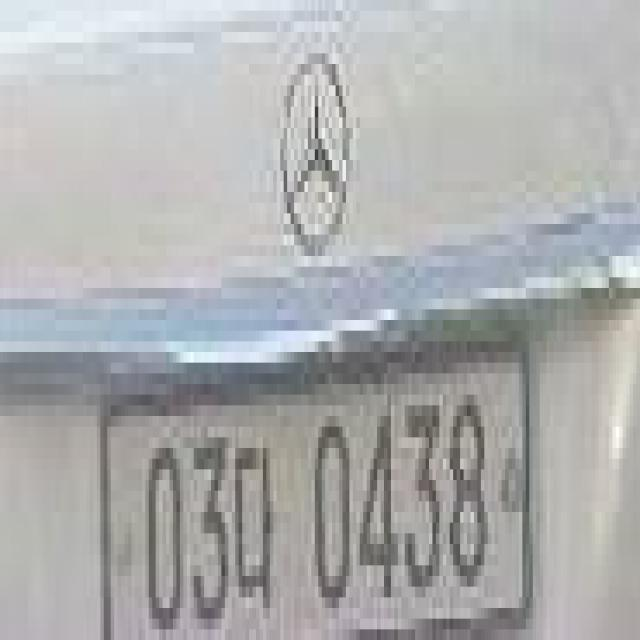illegal_plate: (96, 346, 536, 640)
